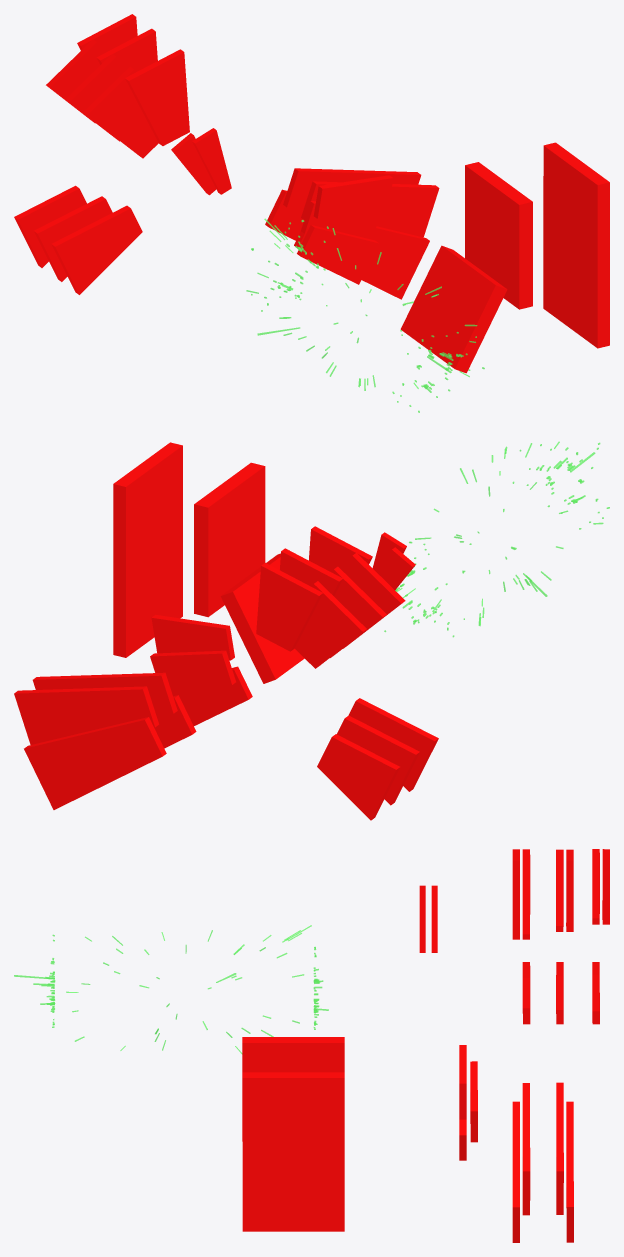
3 views of the same model, one above another, from view 1: azimuth 30°, elevation 25°; view 2: azimuth 150°, elevation 25°; view 3: azimuth 270°, elevation 25° (orthographic). The views are drawn at different scales.
Parts seen in each view (by area): view 1: MuonChambers_V1, EBRecHits_V2, EERecHits_V2; view 2: MuonChambers_V1, EERecHits_V2, EBRecHits_V2; view 3: MuonChambers_V1, EBRecHits_V2, EERecHits_V2.
Boxes of the visible parts, x1,y1,x2,y2 form: MuonChambers_V1: [14, 14, 609, 373]; EBRecHits_V2: [246, 218, 477, 390]; EERecHits_V2: [251, 220, 484, 412]; MuonChambers_V1: [14, 442, 438, 820]; EERecHits_V2: [384, 442, 609, 637]; EBRecHits_V2: [396, 441, 603, 626]; MuonChambers_V1: [242, 849, 609, 1242]; EBRecHits_V2: [66, 925, 311, 1054]; EERecHits_V2: [14, 934, 328, 1029].
Size of what is drawn, in the model's own units: 10.83 by 7.67 by 14.64.
